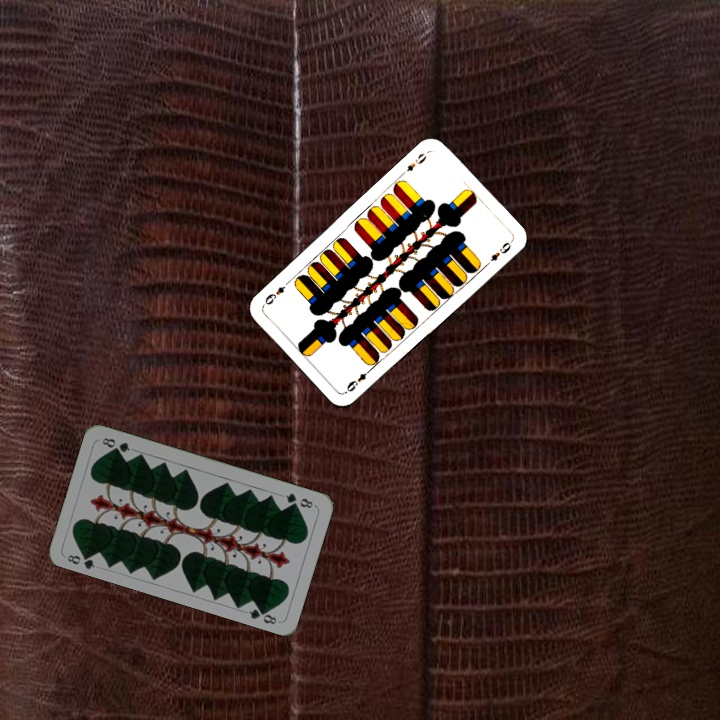E9: (342, 364, 375, 395), (402, 149, 429, 174)
G8: (63, 548, 97, 571), (281, 489, 316, 511)
